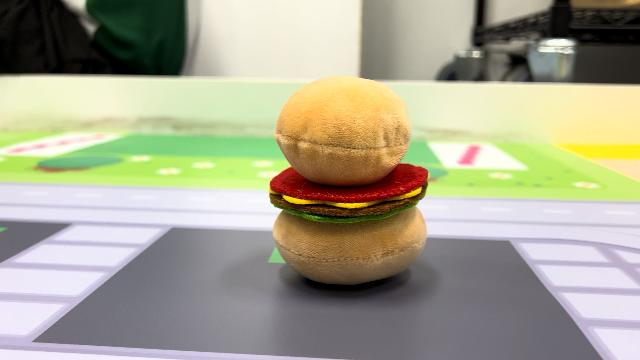burger: (264, 72, 433, 288)
